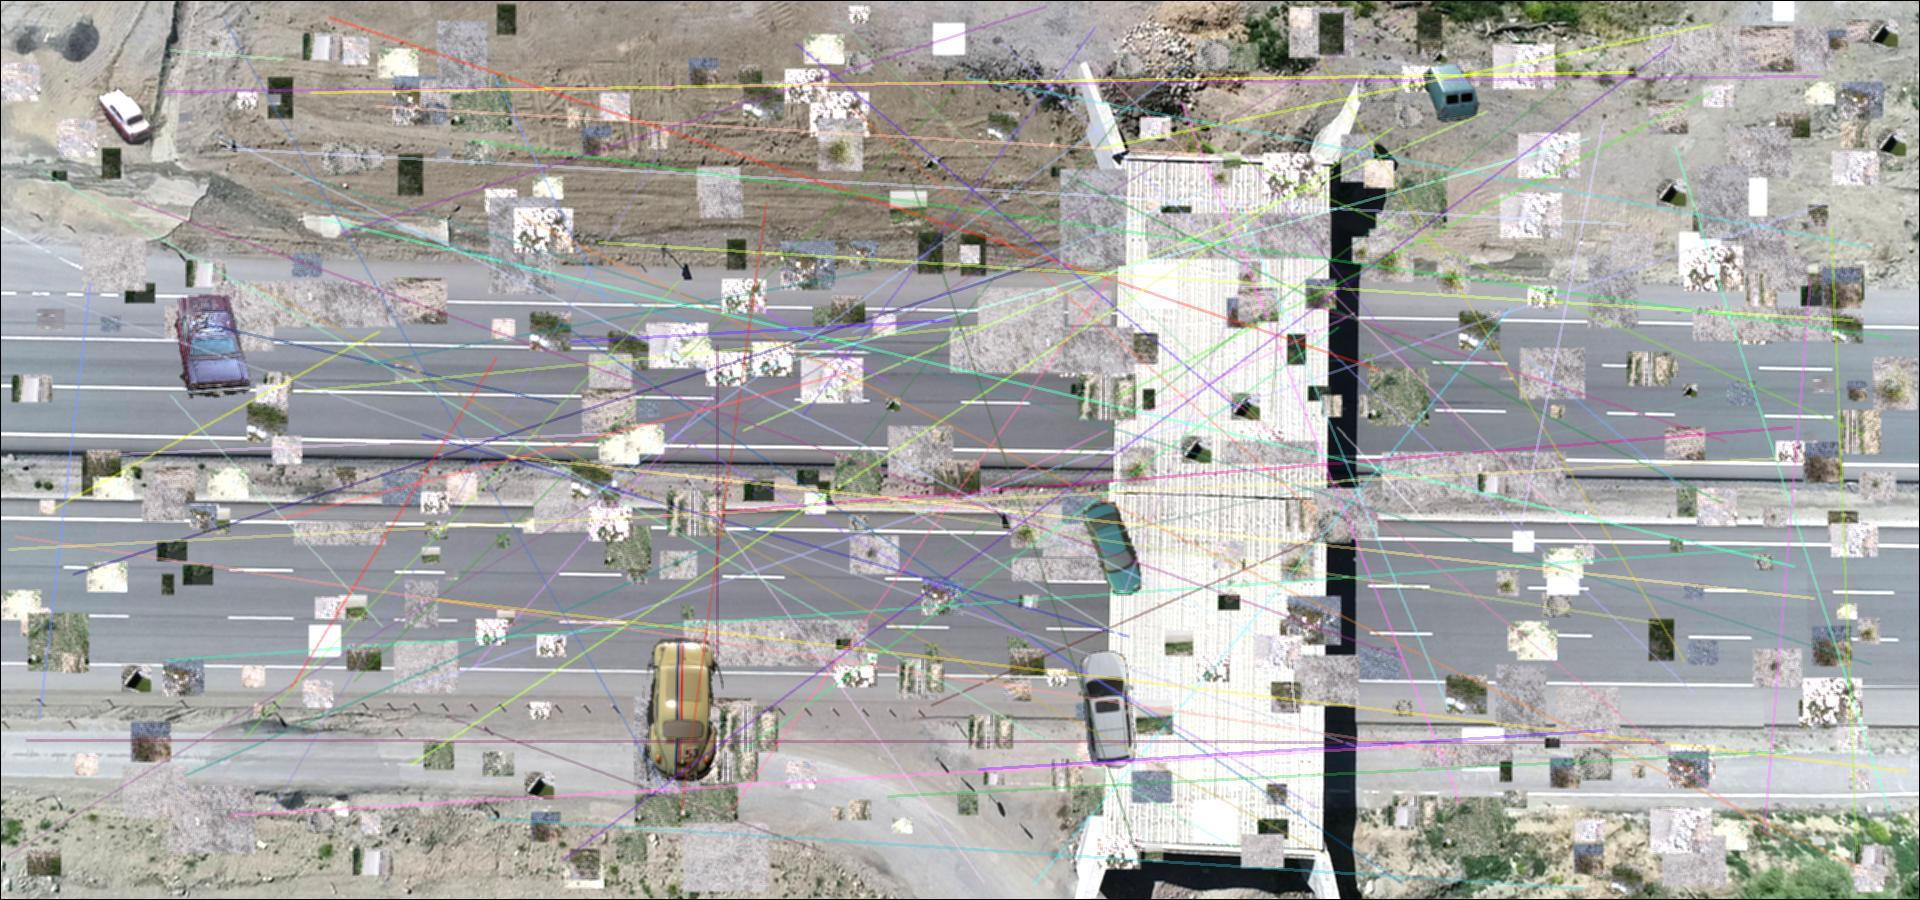arac: (642, 638, 722, 781), (170, 294, 255, 400), (1073, 651, 1139, 771), (1082, 500, 1145, 595), (94, 84, 153, 144), (1423, 65, 1480, 122)
